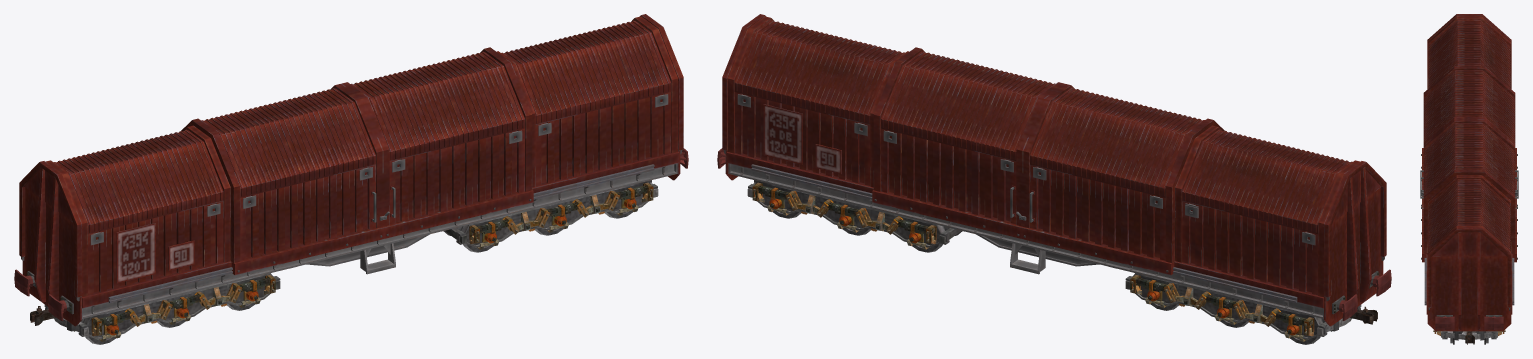
The picture shows the model from 3 angles, left to right: view 1: azimuth 30°, elevation 25°; view 2: azimuth 150°, elevation 25°; view 3: azimuth 270°, elevation 25°; orthographic projection. The views are drawn at different scales.
Visible parts, largest first — view 1: FRAME.004_Cube.1281_Cube.1312, BOGEY_FRONT.003_Cube.037, BOGEY_REAR.003_Cube.056; view 2: FRAME.004_Cube.1281_Cube.1312, BOGEY_FRONT.003_Cube.037, BOGEY_REAR.003_Cube.056; view 3: FRAME.004_Cube.1281_Cube.1312, BOGEY_REAR.003_Cube.056.
Boxes of the visible parts, box(x1,y1,x2,y2) form: FRAME.004_Cube.1281_Cube.1312: box(14, 14, 688, 326); BOGEY_FRONT.003_Cube.037: box(30, 273, 280, 341); BOGEY_REAR.003_Cube.056: box(445, 180, 658, 249); FRAME.004_Cube.1281_Cube.1312: box(717, 14, 1391, 326); BOGEY_FRONT.003_Cube.037: box(1125, 273, 1377, 341); BOGEY_REAR.003_Cube.056: box(747, 180, 960, 249); FRAME.004_Cube.1281_Cube.1312: box(1420, 14, 1518, 331); BOGEY_REAR.003_Cube.056: box(1433, 330, 1505, 344).
Size of the model in its own units: 24.64 by 6.68 by 4.5.
Materials: 6 (6 with a texture image).
